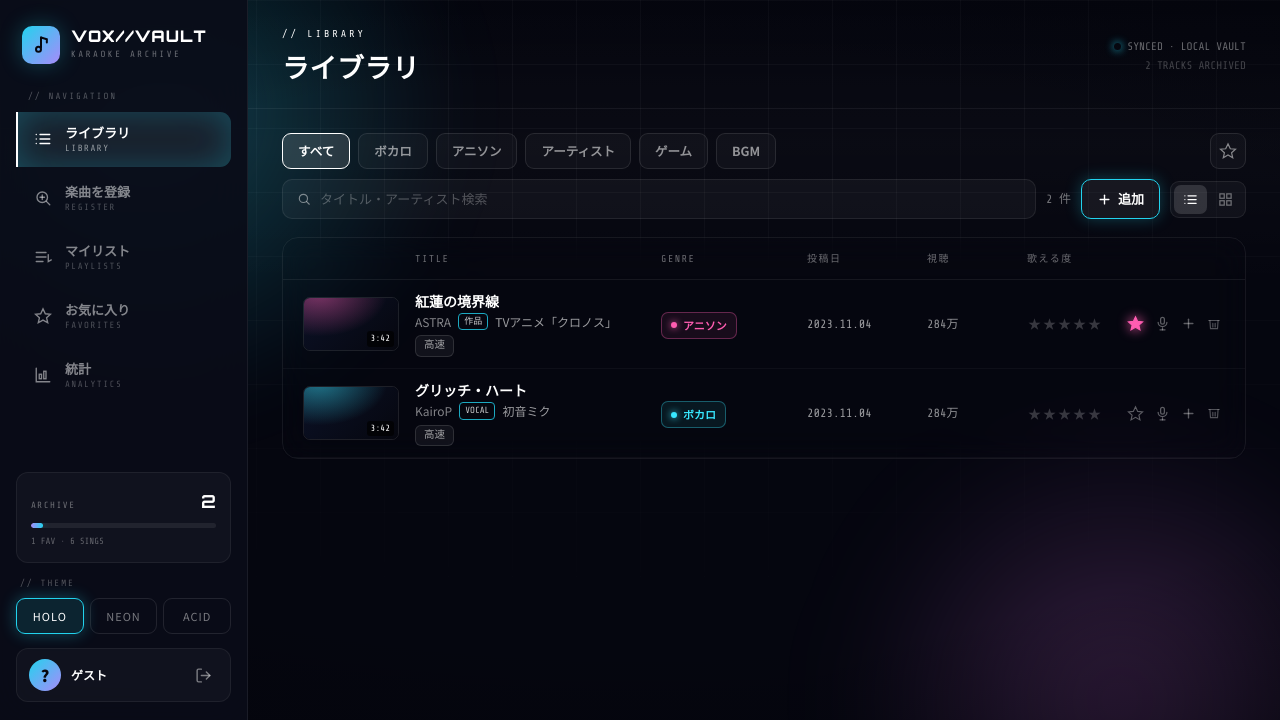
Test: filters the library via the search box
Expected: the button "グリッチ・ハート" is shown, [415,380,527,400]
Note: typing an artist narrows the list through the libDerived pipeline
Type "ASTRA" into the field with placeholder "タイトル・アーティスト検索" at (670, 199), box [320,189,1021,209]
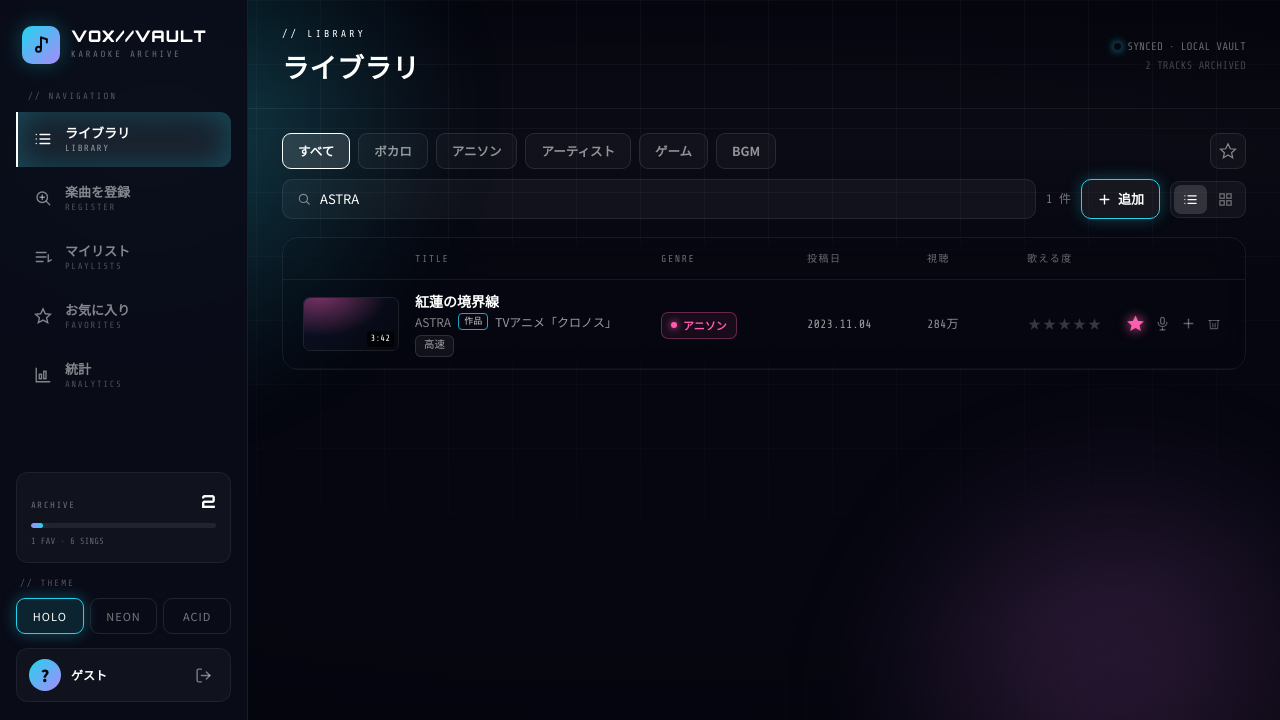
Expected: the button "紅蓮の境界線" is shown, [415,291,499,311]
Now the button "グリッチ・ハート" is gone
